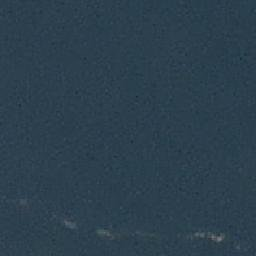debris: (192, 230, 228, 241), (96, 229, 115, 236), (62, 220, 78, 228)
